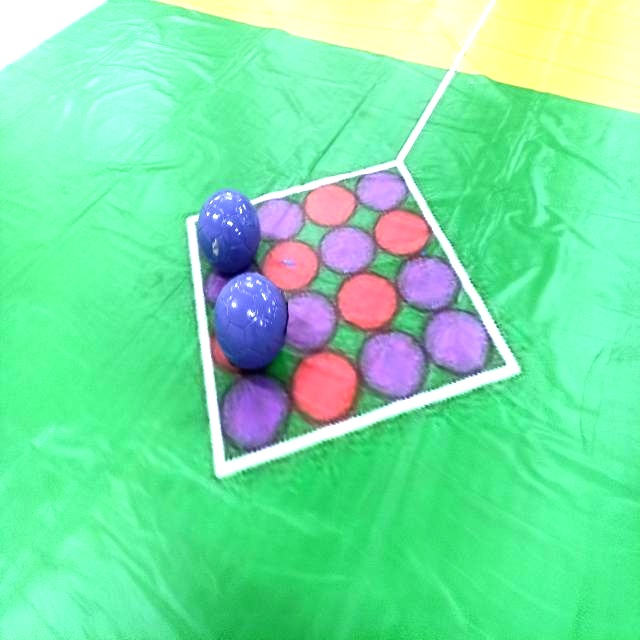purple_ball: (206, 266, 288, 369)
silo: (201, 189, 260, 274)
